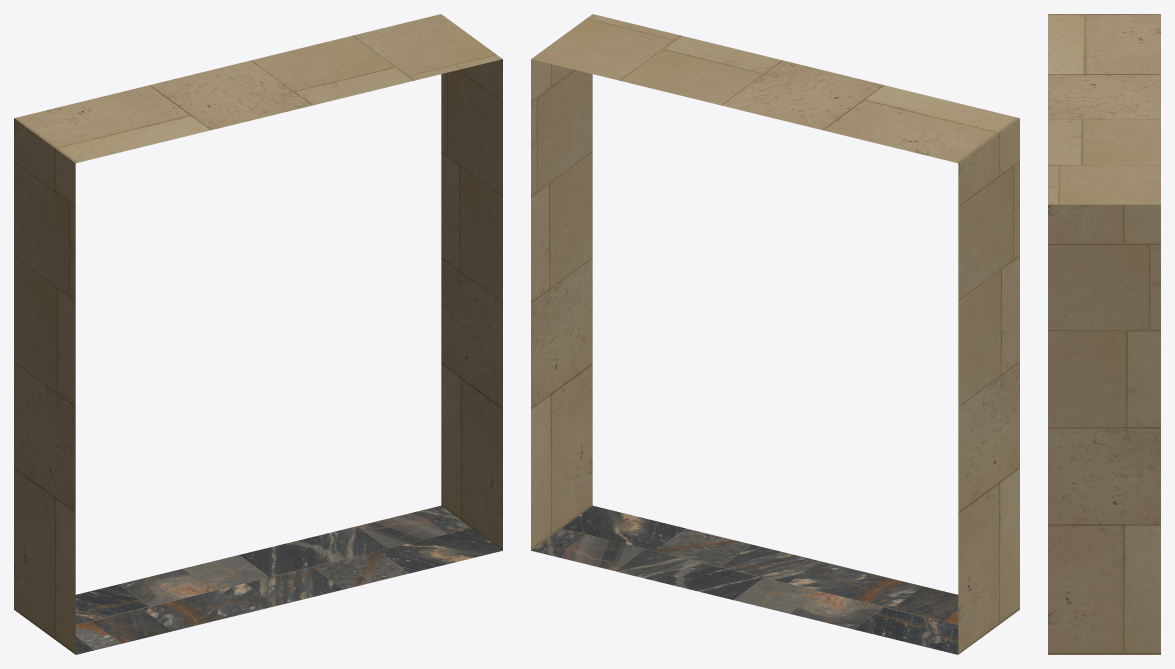
File: DoubleDoorVolume_01.fbx
3 views of the same model, side by side, from view 1: azimuth 30°, elevation 25°; view 2: azimuth 150°, elevation 25°; view 3: azimuth 270°, elevation 25° (orthographic). The views are drawn at different scales.
Visible parts, largest first — view 1: Cube.074; view 2: Cube.074; view 3: Cube.074.
Boxes of the visible parts, box(x1,y1,x2,y2) form: Cube.074: box(14, 14, 502, 654); Cube.074: box(531, 14, 1019, 654); Cube.074: box(1048, 14, 1160, 654).
Size of the model in its own units: 200 by 220 by 50.
